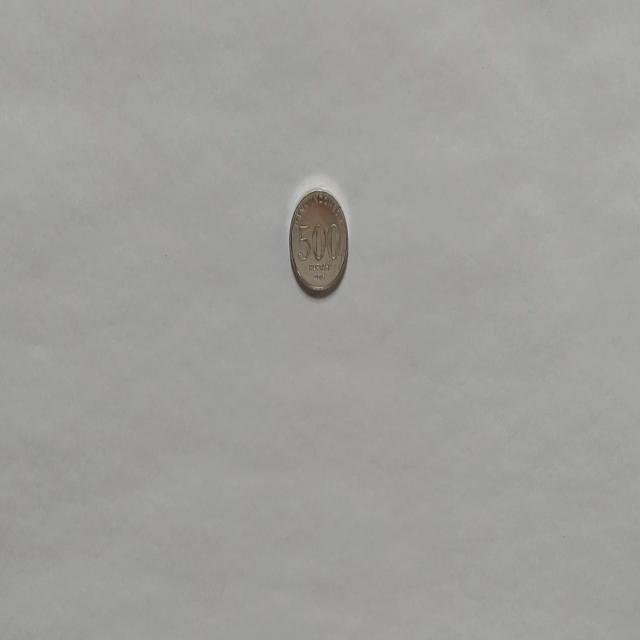lima ratus rupiah: (288, 186, 349, 298)
